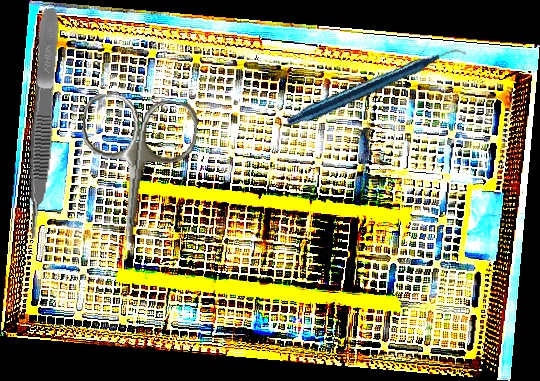Handpiece: (285, 14, 469, 163)
Iris Scissors: (70, 92, 200, 256)
Tissue Forceps: (19, 7, 64, 241)
